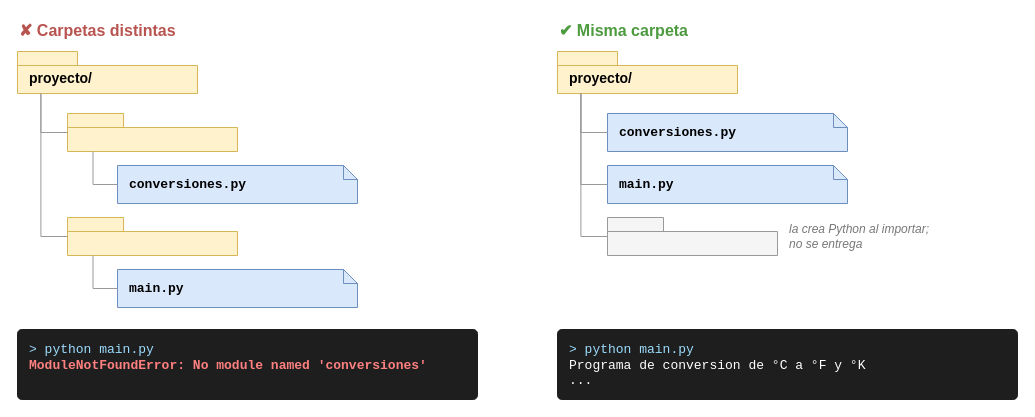
This 1035x417 diagram has some shape labels left out. The box of each missing label's shape, as (x1, y1, x2, y2) in pixels:
__pycache__/: (606, 216, 778, 256)
funciones/: (66, 112, 238, 152)
programa/: (66, 216, 238, 256)
